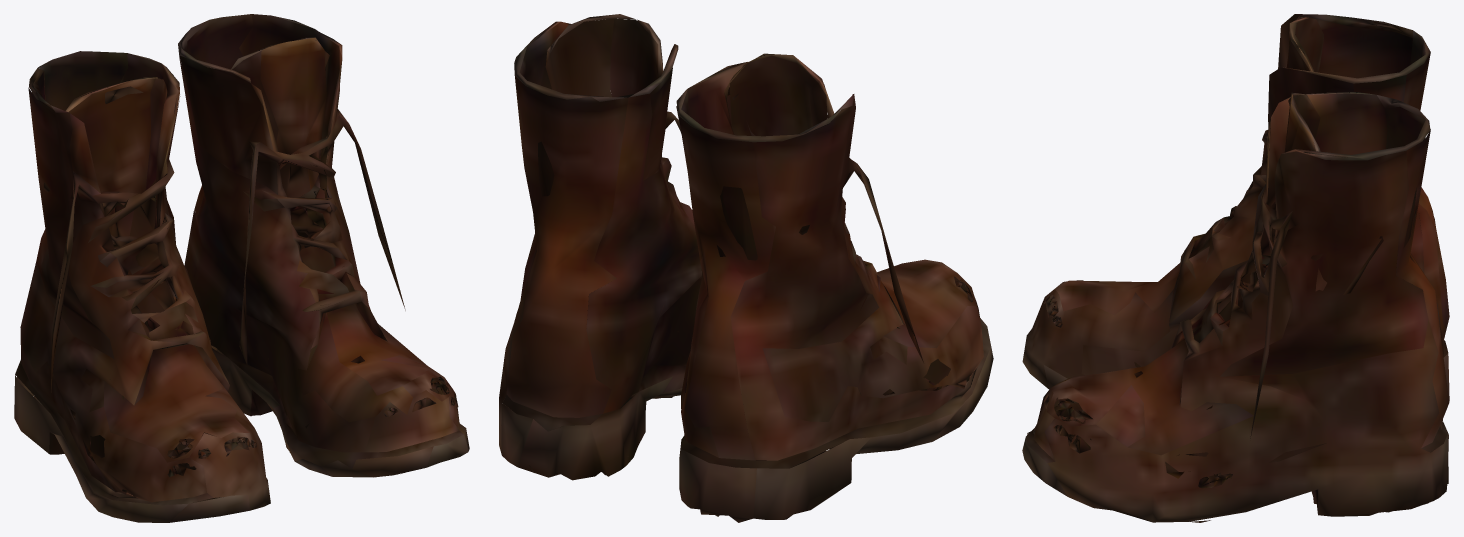
Rendered from botas.movil.glb.
3 views of the same model, side by side, from view 1: azimuth 30°, elevation 25°; view 2: azimuth 150°, elevation 25°; view 3: azimuth 270°, elevation 25° (orthographic). The views are drawn at different scales.
Visible parts, largest first — view 1: geometry_0; view 2: geometry_0; view 3: geometry_0.
Part boxes in pixels (box(x1,y1,x2,y2)): geometry_0: box(14, 14, 469, 522); geometry_0: box(499, 14, 993, 522); geometry_0: box(1022, 14, 1449, 522).
Size of the model in its own units: 0.2977 by 0.3 by 0.2993.
Materials: 1 (1 with a texture image).
